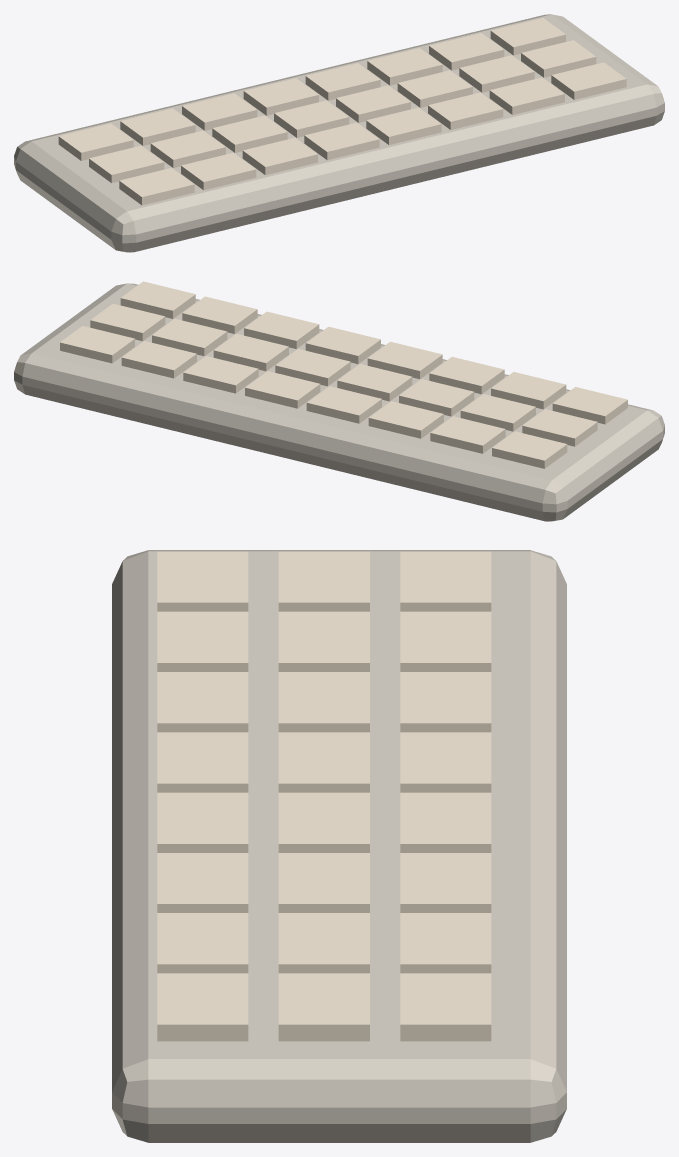
Rendered from keyboard.glb.
The picture shows the model from 3 angles, top to bottom: view 1: azimuth 30°, elevation 25°; view 2: azimuth 150°, elevation 25°; view 3: azimuth 270°, elevation 25°; orthographic projection. The views are drawn at different scales.
Visible parts, largest first — view 1: keyboard; view 2: keyboard; view 3: keyboard.
Part boxes in pixels (<box>): keyboard: <box>14,14,664,252</box>; keyboard: <box>14,281,664,521</box>; keyboard: <box>112,550,566,1142</box>.
Bounding box in the file's own units: 0.42 × 0.036 × 0.15.
